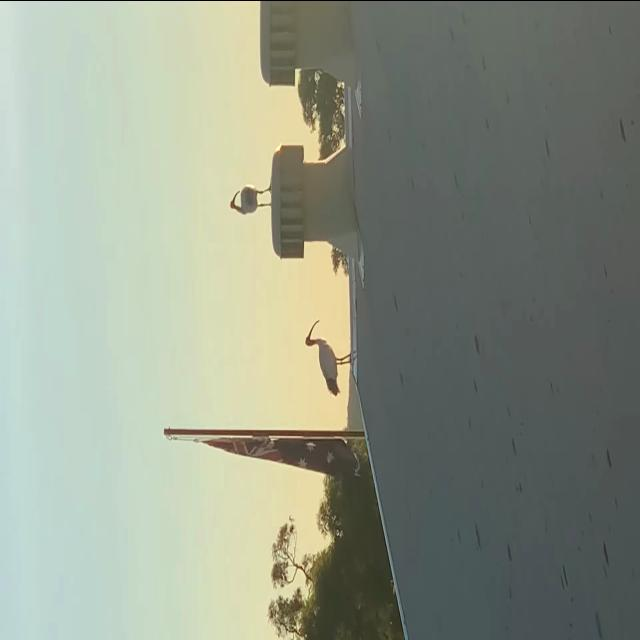Birds-Ibis: (304, 316, 354, 398), (228, 179, 274, 216)
